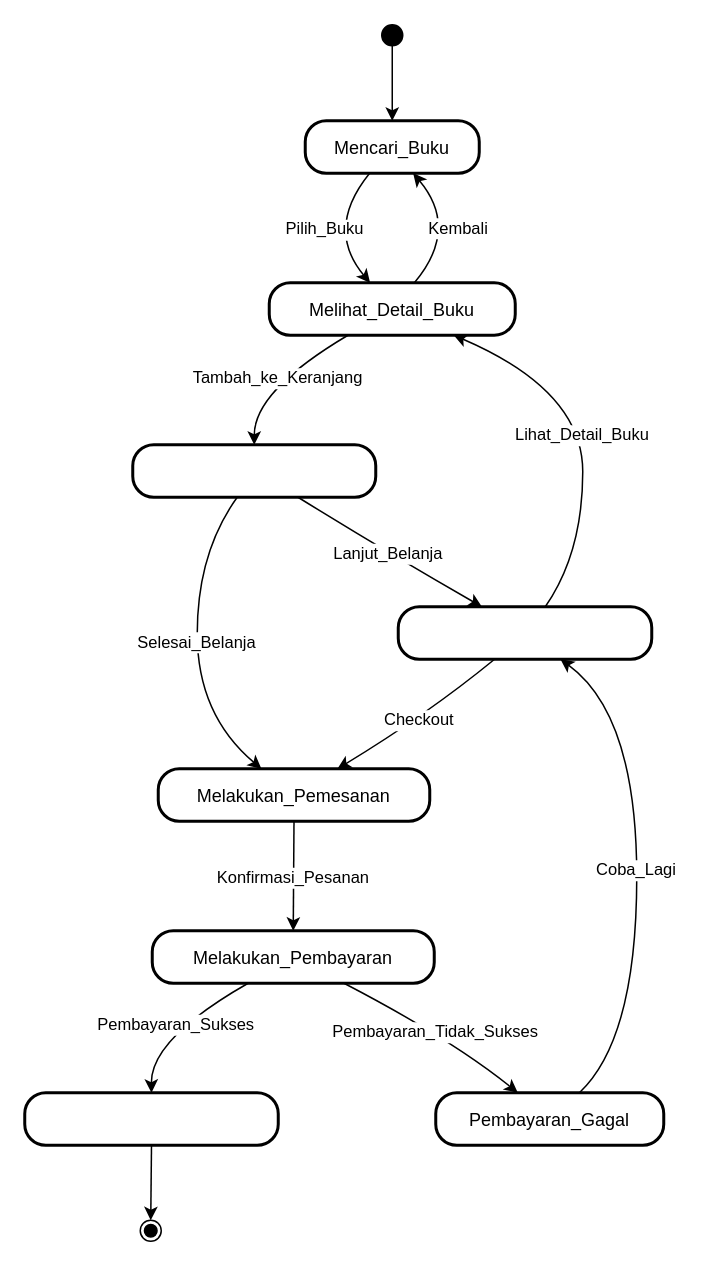
Image size: 704x1266. Some labels were removed from this diagram. Here are the shapes that lost their labels. From the top down, the centre of each, then its label:
At pixel 253 470: "Menambahkan_Buku".
At pixel 524 632: "Mengelola_Keranjang".
At pixel 150 1118: "Pembayaran_Berhasil".
